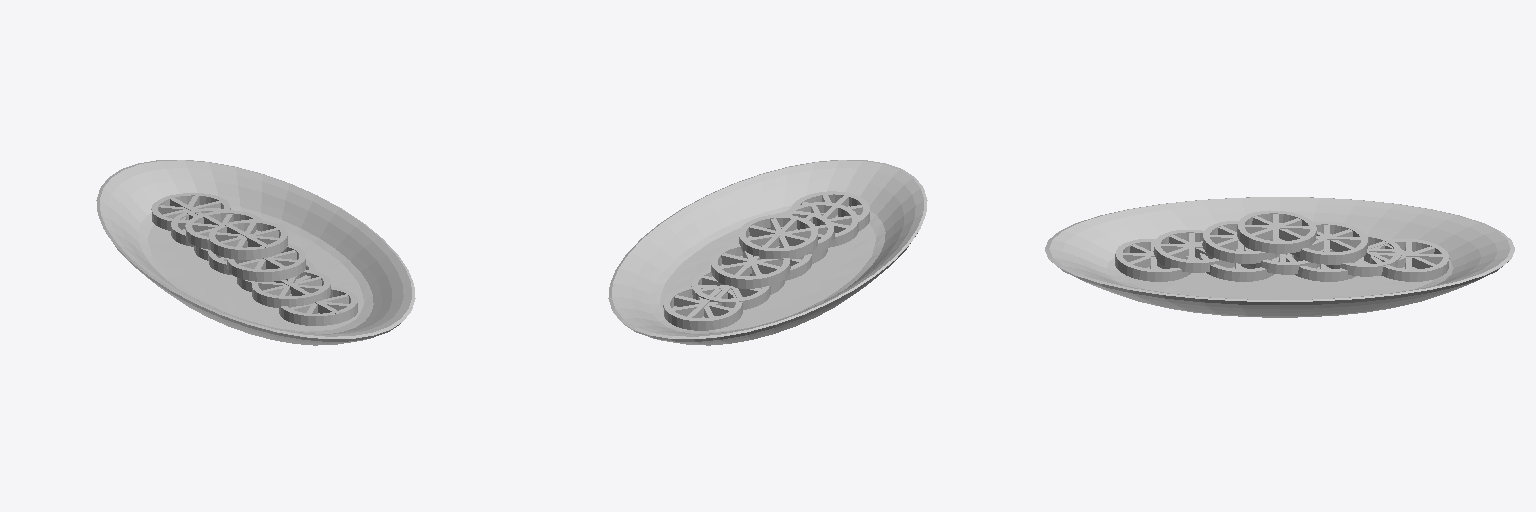
Rendered from saroja .obj.
The picture shows the model from 3 angles: view 1: azimuth 30°, elevation 25°; view 2: azimuth 150°, elevation 25°; view 3: azimuth 270°, elevation 25°; orthographic projection.
Visible parts, largest first — view 1: Cylinder, Cylinder.010, Cylinder.001, Cylinder.008, Cylinder.007, Cylinder.004, Cylinder.009; view 2: Cylinder, Cylinder.010, Cylinder.004, Cylinder.009, Cylinder.005, Cylinder.007, Cylinder.001, Cylinder.008; view 3: Cylinder, Cylinder.010, Cylinder.004, Cylinder.009, Cylinder.001, Cylinder.007, Cylinder.008, Cylinder.005, Cylinder.002, Cylinder.003, Cylinder.006.
Part boxes in pixels (left/top/right/bottom): Cylinder: left=96, top=160, right=415, bottom=345; Cylinder.010: left=209, top=220, right=287, bottom=259; Cylinder.001: left=279, top=286, right=357, bottom=325; Cylinder.008: left=227, top=244, right=306, bottom=281; Cylinder.007: left=252, top=270, right=330, bottom=307; Cylinder.004: left=151, top=193, right=230, bottom=230; Cylinder.009: left=185, top=211, right=262, bottom=249; Cylinder: left=608, top=160, right=927, bottom=345; Cylinder.010: left=739, top=215, right=817, bottom=260; Cylinder.004: left=663, top=285, right=742, bottom=330; Cylinder.009: left=711, top=244, right=790, bottom=288; Cylinder.005: left=691, top=268, right=770, bottom=309; Cylinder.007: left=786, top=202, right=858, bottom=247; Cylinder.001: left=791, top=191, right=869, bottom=230; Cylinder.008: left=774, top=211, right=834, bottom=256; Cylinder: left=1045, top=197, right=1514, bottom=317; Cylinder.010: left=1237, top=210, right=1316, bottom=253; Cylinder.004: left=1370, top=239, right=1449, bottom=281; Cylinder.009: left=1292, top=222, right=1367, bottom=264; Cylinder.001: left=1115, top=239, right=1190, bottom=281; Cylinder.007: left=1153, top=230, right=1224, bottom=272; Cylinder.008: left=1202, top=221, right=1281, bottom=263; Cylinder.005: left=1323, top=234, right=1401, bottom=276; Cylinder.002: left=1200, top=250, right=1278, bottom=281; Cylinder.003: left=1286, top=255, right=1357, bottom=281; Cylinder.006: left=1244, top=247, right=1322, bottom=274.
Size of the model in its own units: 1.32 by 0.3068 by 2.5.